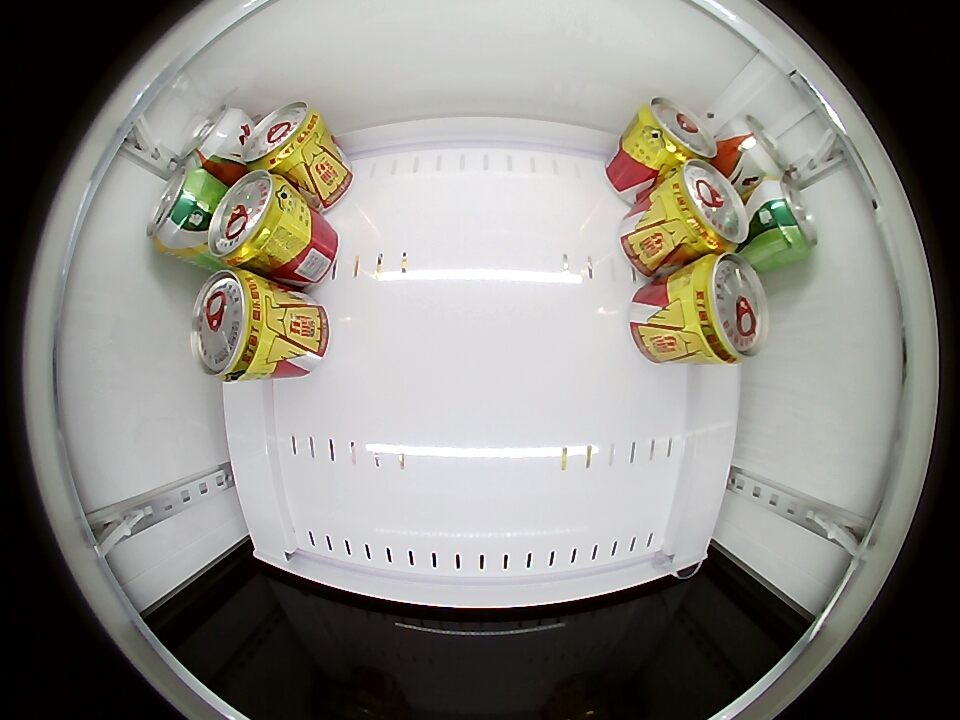dongpeng: (191, 269, 277, 381), (684, 252, 768, 364), (207, 171, 295, 269), (663, 159, 750, 255), (242, 101, 323, 173), (635, 97, 718, 165)
jianlibao: (179, 105, 248, 171), (725, 116, 787, 181)
quchenshixiangcao: (147, 165, 211, 256), (758, 177, 817, 260)
